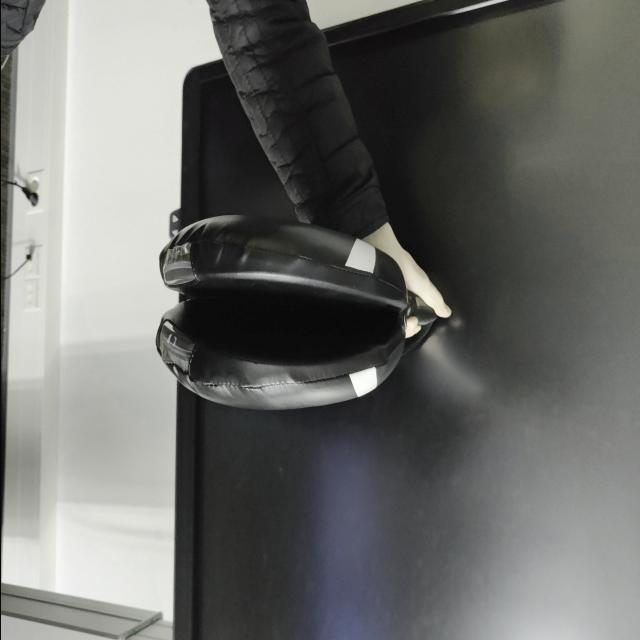paddle: (156, 210, 440, 414)
